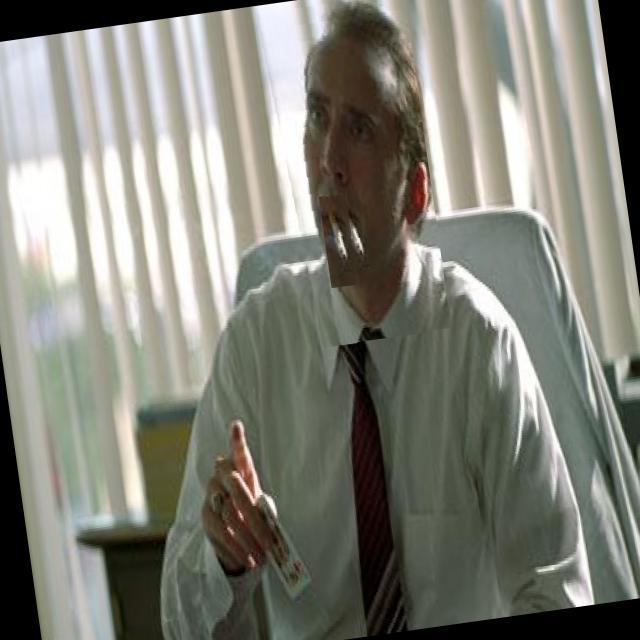cigarette: (319, 193, 359, 288)
